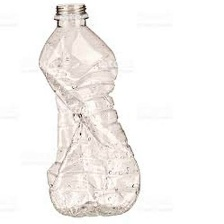bottle: (34, 2, 143, 219)
